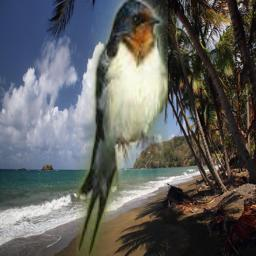Swallow: (76, 0, 168, 256)
